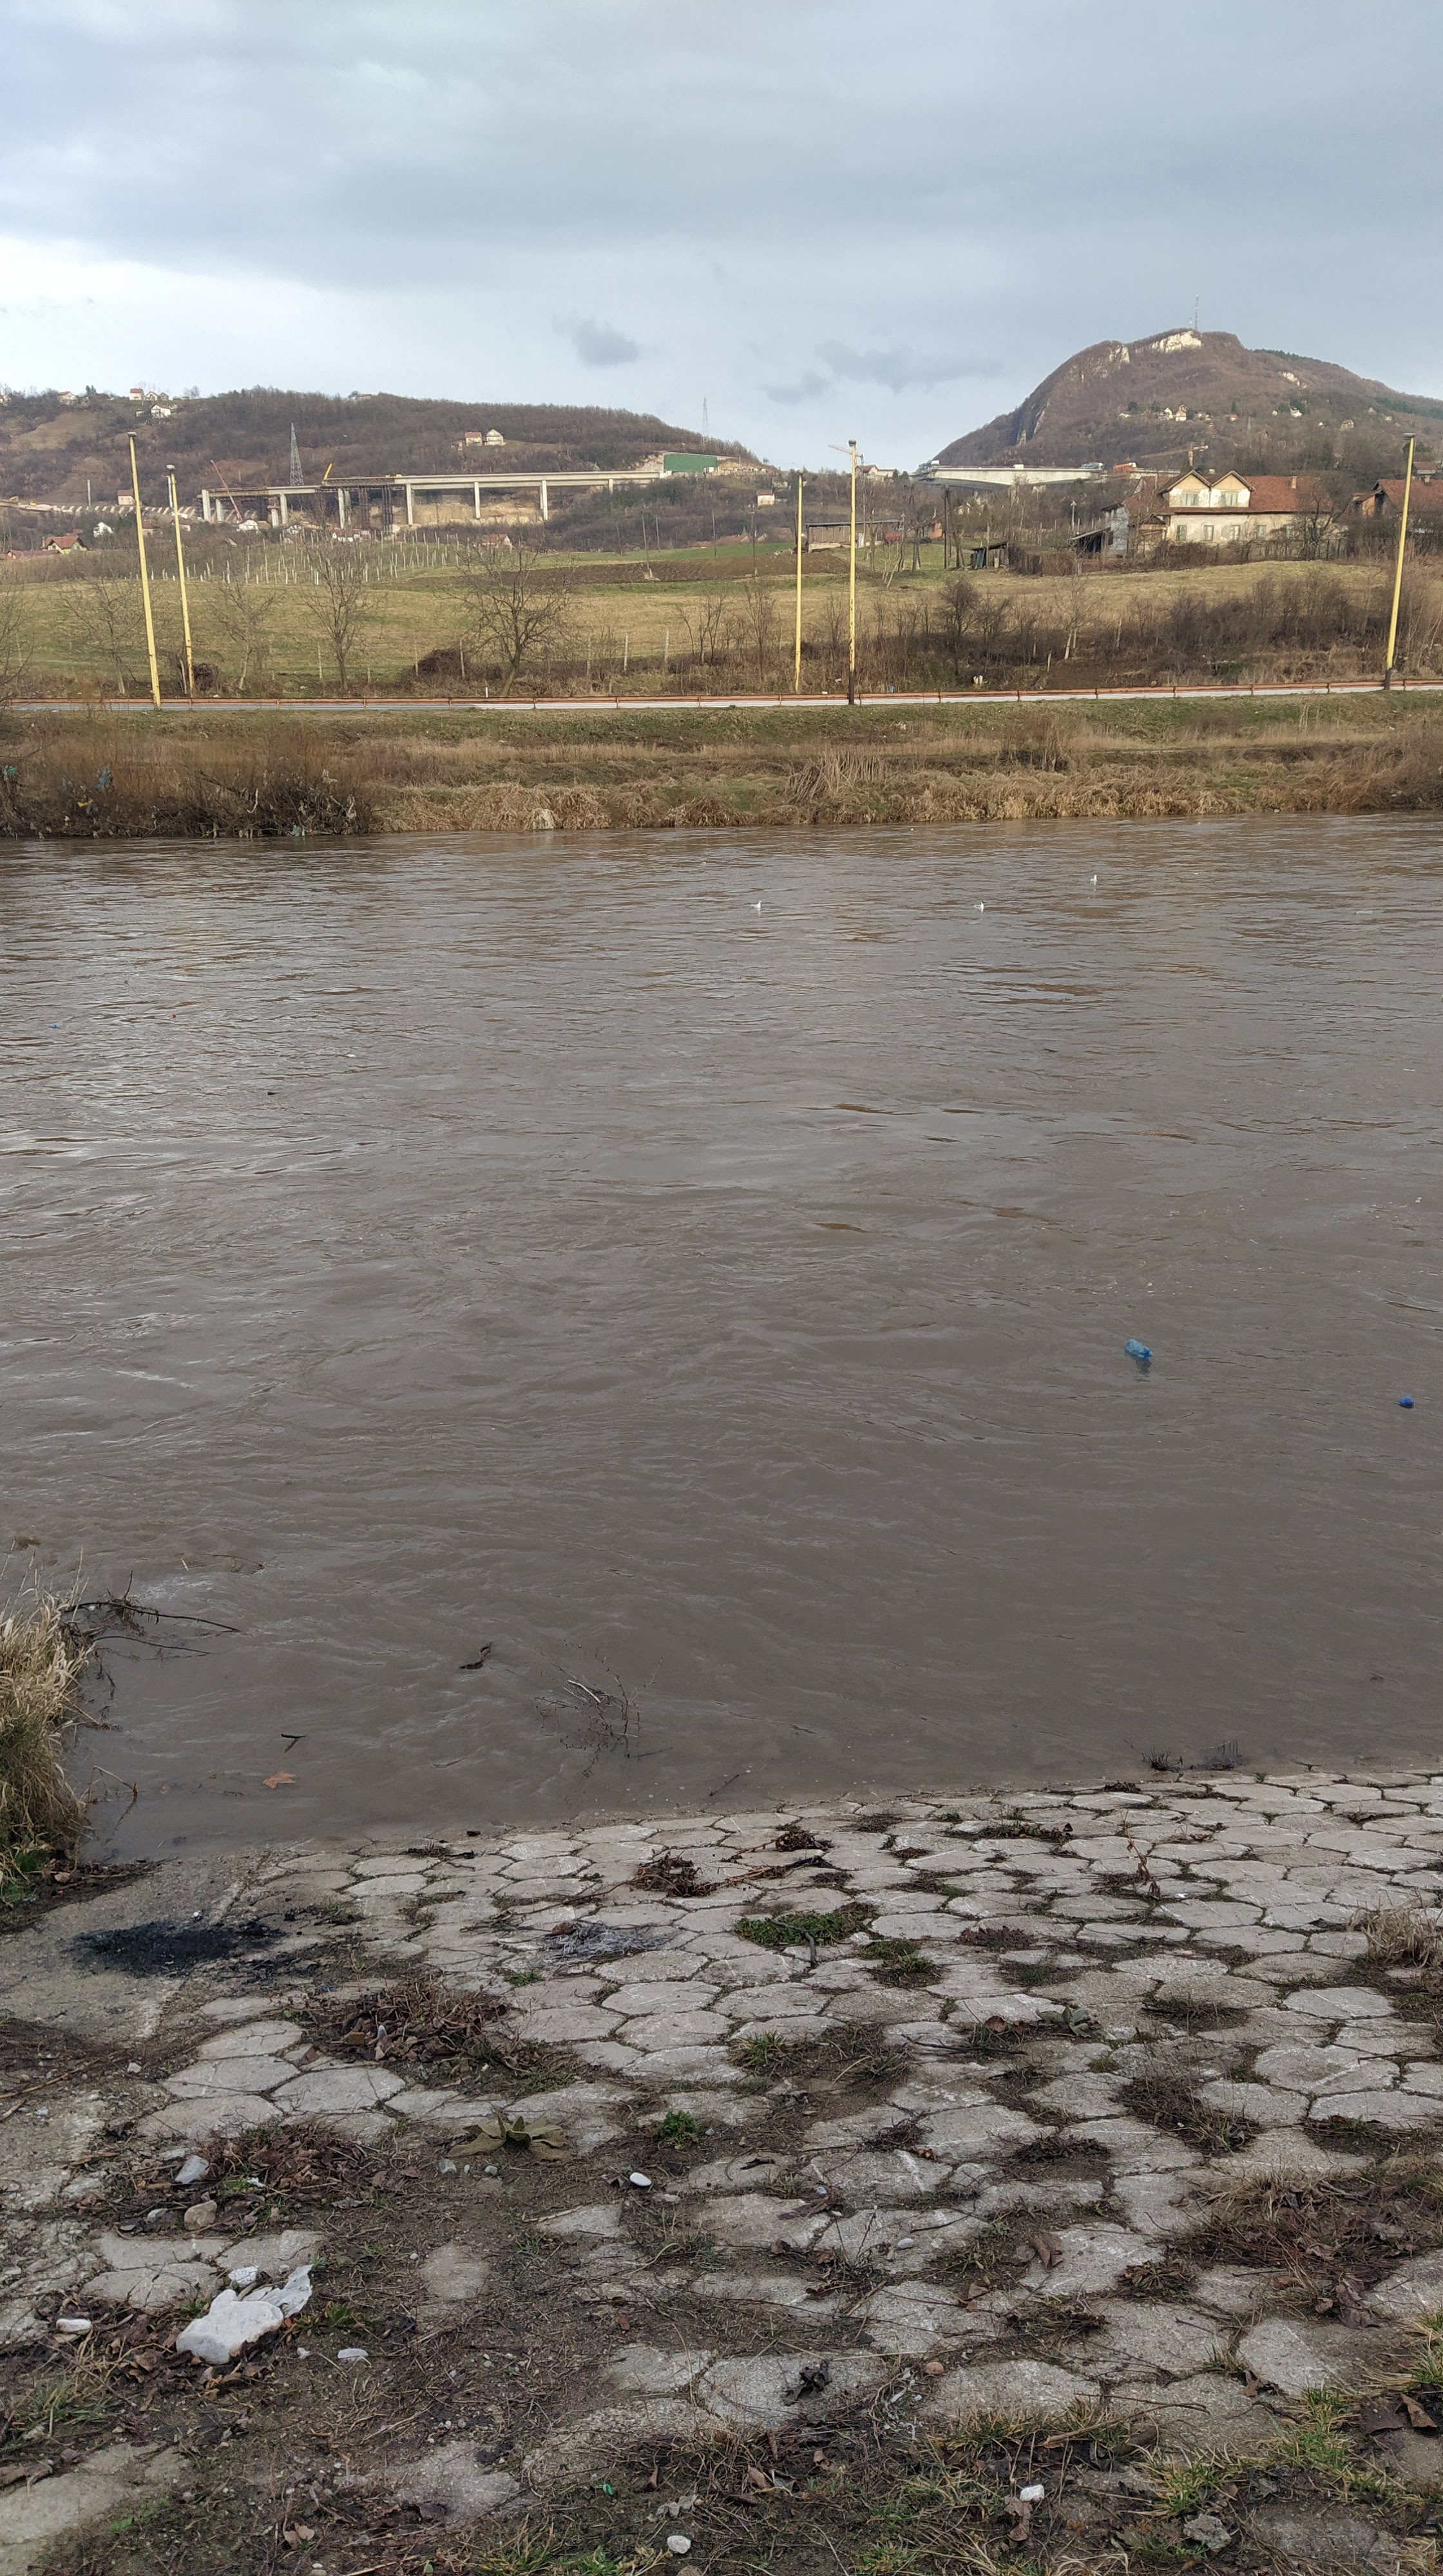Plastic Bottle: (1124, 1338, 1153, 1359), (1401, 1398, 1413, 1407), (1353, 909, 1372, 915), (48, 1023, 60, 1028), (168, 1014, 181, 1017)
